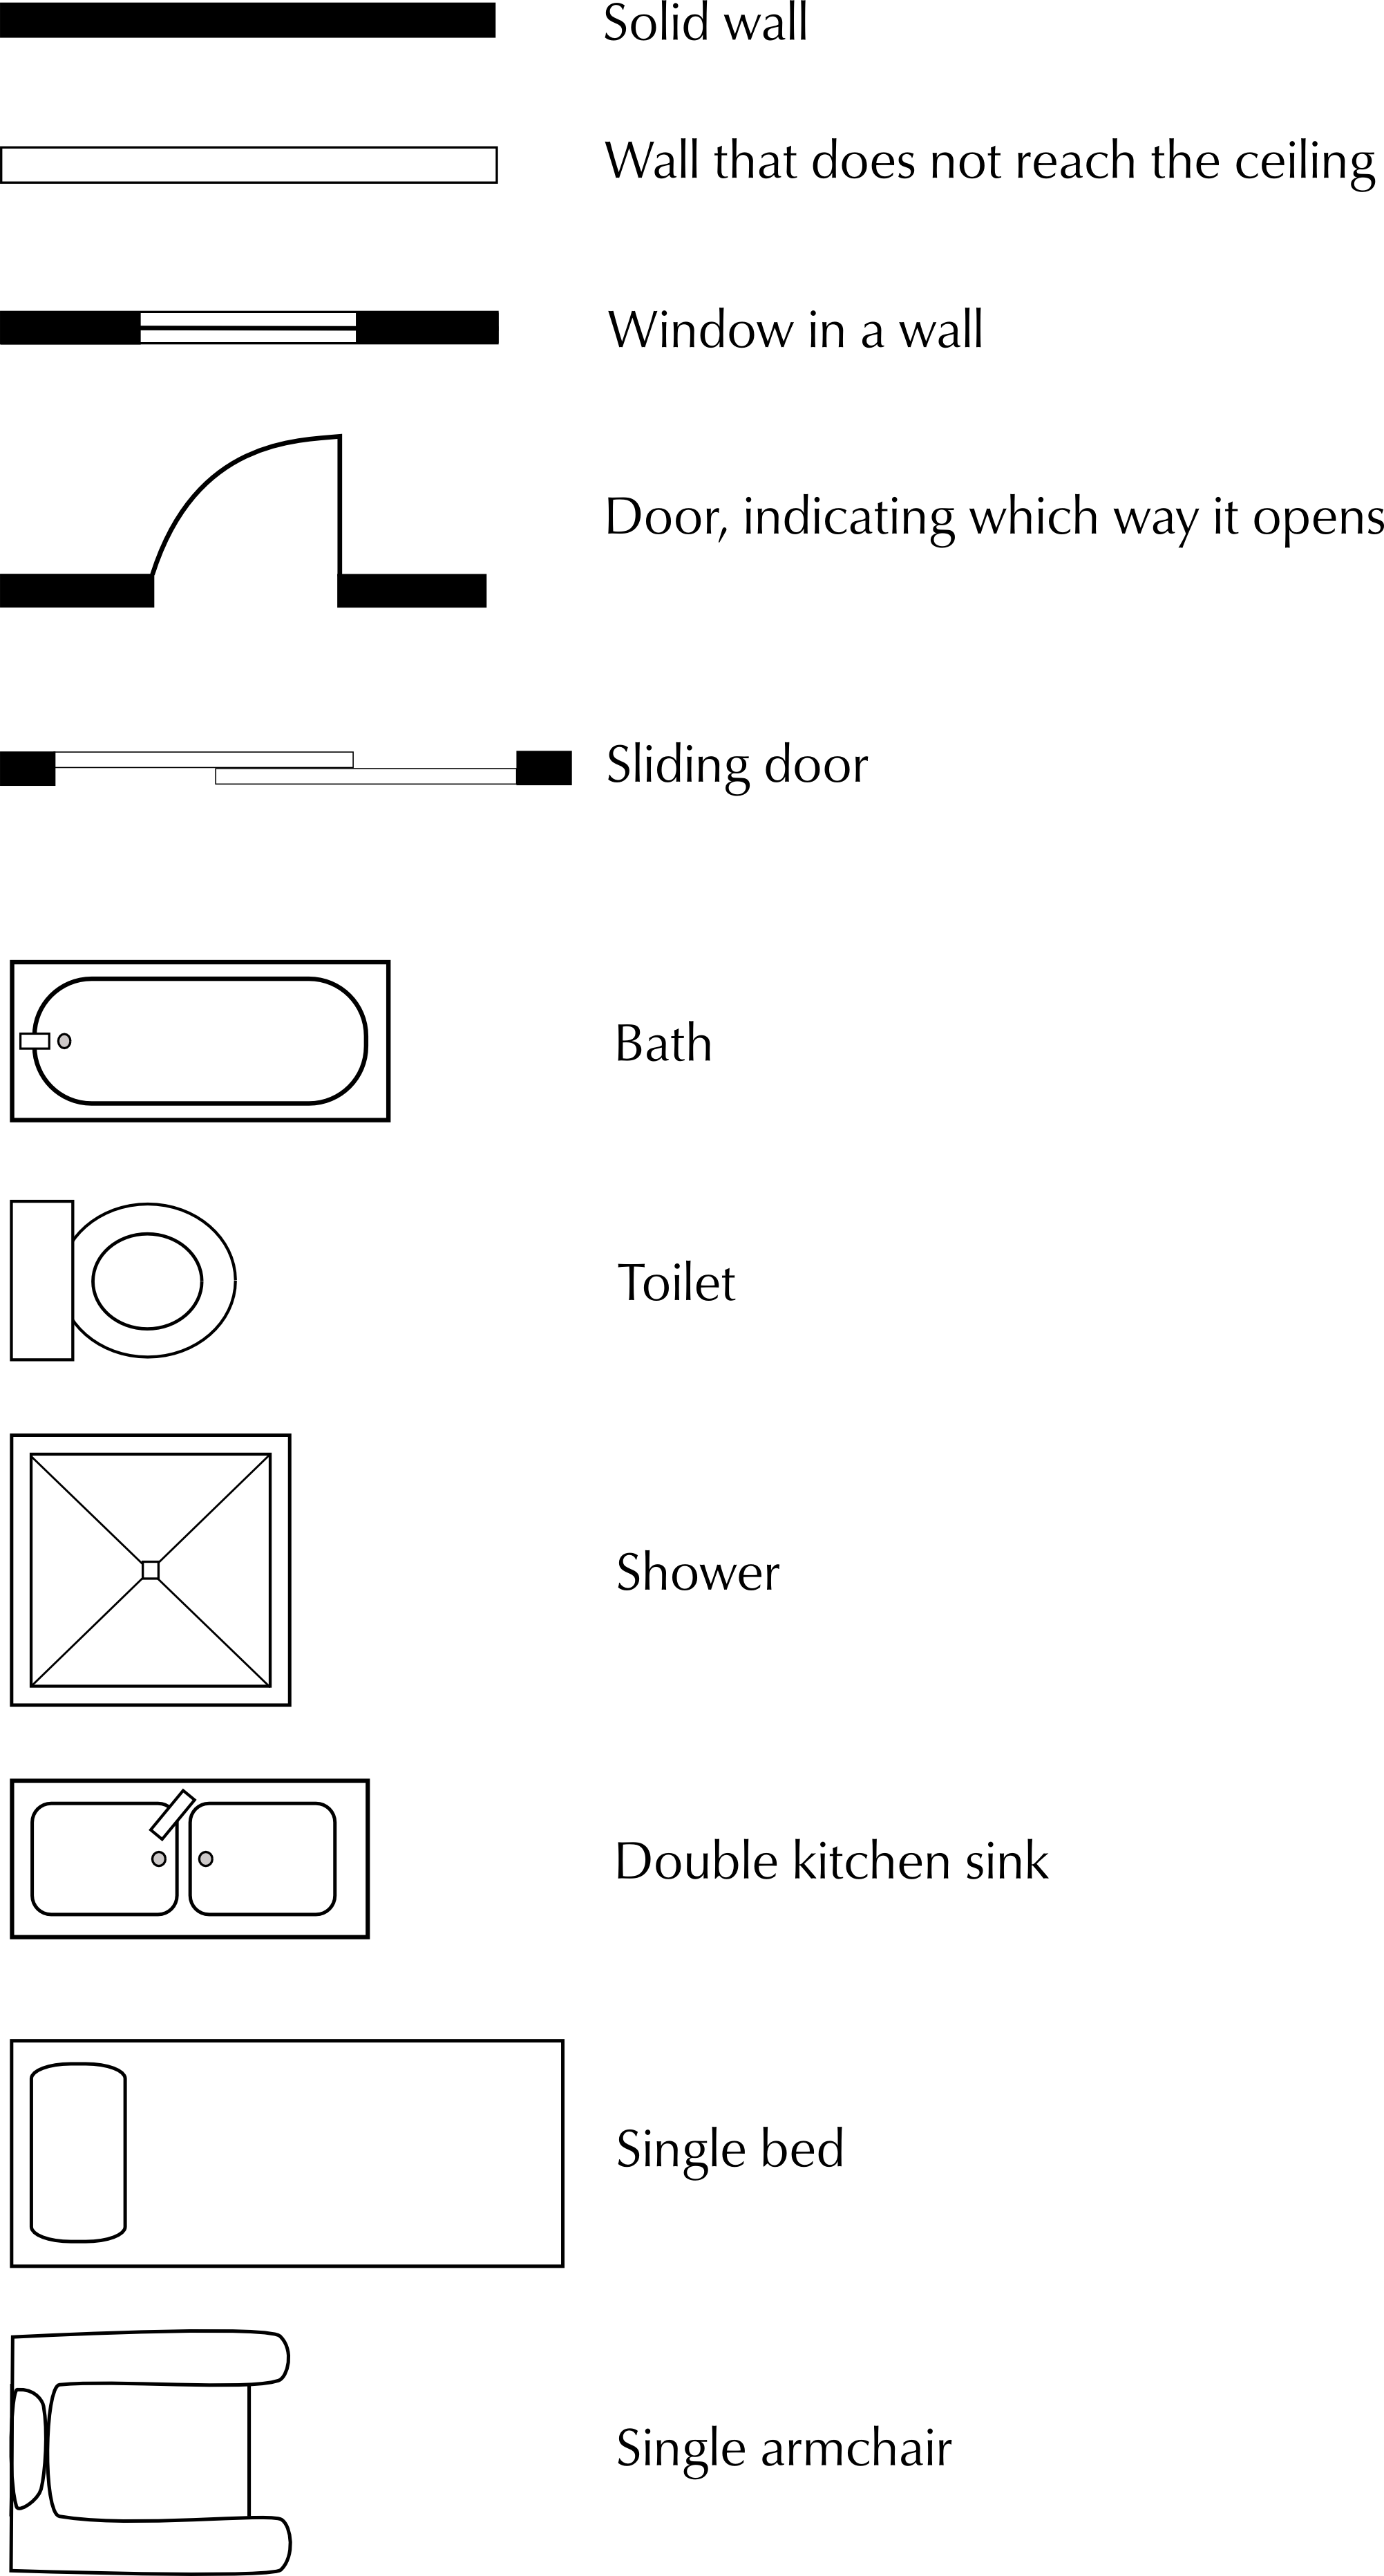door: (128, 407, 360, 663), (60, 721, 503, 830)
